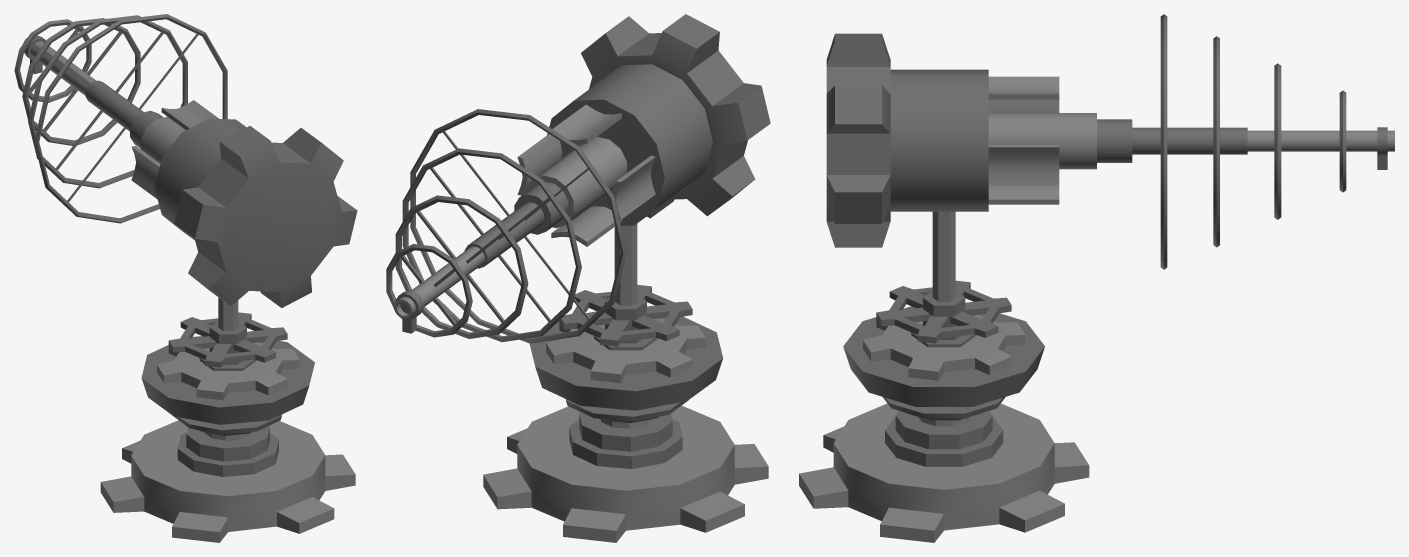
Rendered from spectrum_prism.glb.
The picture shows the model from 3 angles, left to right: view 1: azimuth 30°, elevation 25°; view 2: azimuth 150°, elevation 25°; view 3: azimuth 270°, elevation 25°; orthographic projection. The views are drawn at different scales.
Parts seen in each view (by area): view 1: Turret, Body; view 2: Turret, Body; view 3: Turret, Body.
Part boxes in pixels (x1,y1,x2,y2): Turret: [14, 14, 357, 400]; Body: [100, 336, 355, 542]; Turret: [386, 14, 770, 383]; Body: [483, 311, 768, 542]; Turret: [826, 14, 1394, 380]; Body: [799, 306, 1089, 542].
Bounding box in the file's own units: 3.44 × 6 × 7.06.
Materials: 1 (1 with a texture image).
